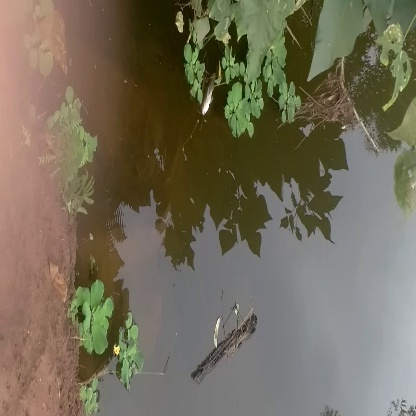branch: (190, 302, 259, 386)
